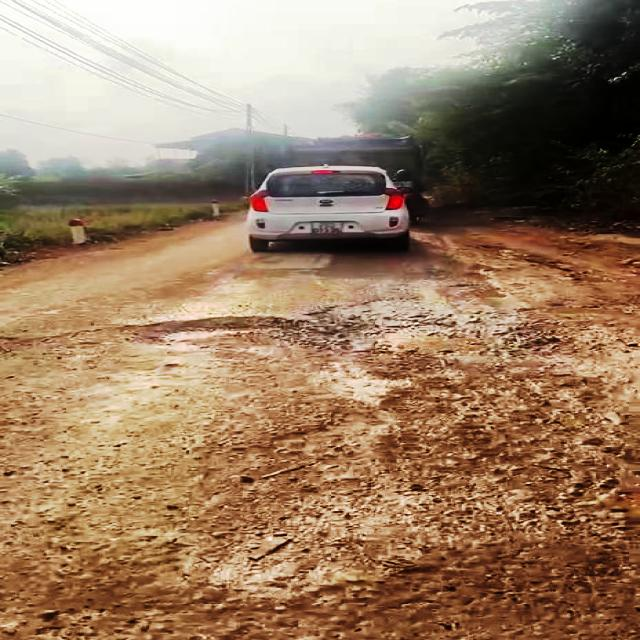pothole: (0, 312, 306, 364), (313, 309, 498, 363)
